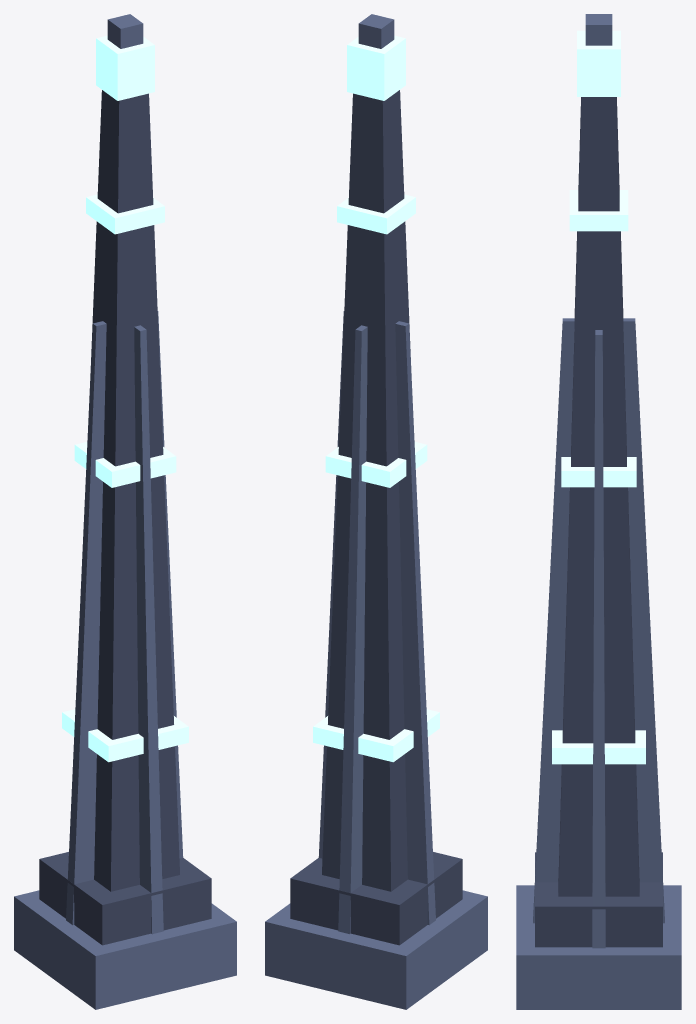
The model's file is EnvPylon.fbx.
3 renders of one model, left to right at view 1: azimuth 30°, elevation 25°; view 2: azimuth 150°, elevation 25°; view 3: azimuth 270°, elevation 25°, orthographic.
Parts seen in each view (by area): view 1: EnvPylon; view 2: EnvPylon; view 3: EnvPylon.
Boxes of the visible parts, bbox=[...] form: EnvPylon: bbox=[14, 14, 236, 1009]; EnvPylon: bbox=[265, 14, 487, 1009]; EnvPylon: bbox=[516, 14, 681, 1009].
Size of the model in its own units: 2.2 by 14 by 2.2.
